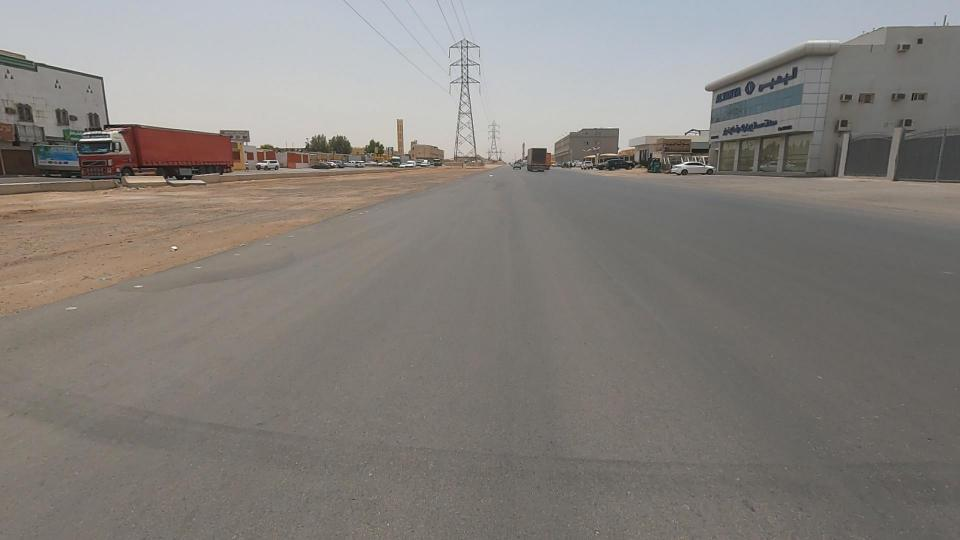CONSTRUCTION_ROAD: (32, 175, 311, 292), (148, 146, 525, 232)
